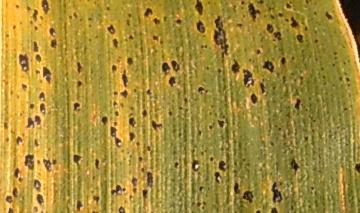tarspot: (212, 15, 230, 59), (109, 125, 124, 149), (241, 67, 256, 90), (246, 1, 261, 23), (17, 53, 30, 76), (270, 180, 283, 203), (41, 65, 53, 87), (23, 153, 35, 171), (261, 59, 275, 74), (71, 153, 84, 169), (120, 65, 129, 88), (230, 58, 241, 76), (41, 158, 54, 173), (149, 119, 163, 132), (242, 189, 254, 204), (289, 158, 300, 174), (195, 19, 206, 35), (146, 170, 155, 189), (190, 158, 202, 172), (170, 58, 181, 73), (110, 184, 122, 197), (40, 1, 51, 15), (160, 61, 171, 75), (35, 192, 45, 206), (167, 74, 177, 88), (290, 15, 299, 30), (272, 31, 283, 43), (197, 85, 209, 96), (265, 22, 275, 35), (213, 171, 223, 184), (217, 160, 226, 174), (258, 81, 267, 95), (324, 10, 334, 22), (194, 1, 202, 16), (32, 179, 42, 191), (75, 198, 83, 213), (127, 117, 137, 129), (232, 180, 240, 195), (249, 92, 258, 105), (33, 114, 42, 127), (25, 116, 34, 129), (111, 37, 120, 50), (130, 174, 139, 187), (294, 97, 302, 111), (76, 60, 84, 74), (11, 185, 19, 199), (143, 7, 153, 18), (140, 188, 149, 200), (49, 38, 57, 51), (31, 8, 39, 21), (125, 56, 135, 66), (295, 33, 304, 44), (106, 24, 115, 35), (100, 115, 109, 126), (119, 88, 128, 99), (91, 194, 100, 205), (32, 39, 39, 53), (48, 27, 56, 39), (34, 53, 42, 65), (13, 167, 21, 179), (128, 130, 135, 143), (38, 102, 45, 115), (4, 194, 13, 204), (216, 119, 225, 129), (104, 4, 113, 14), (38, 91, 46, 102), (15, 136, 23, 147), (94, 158, 101, 170), (284, 2, 293, 11), (33, 66, 41, 76), (110, 63, 117, 74), (112, 98, 119, 109), (354, 161, 360, 173), (174, 18, 183, 26), (152, 17, 160, 26), (75, 79, 83, 88), (255, 48, 263, 57), (268, 12, 276, 21), (282, 15, 290, 24), (151, 34, 159, 43), (127, 33, 135, 42), (235, 21, 243, 30), (144, 88, 153, 96), (124, 18, 132, 27), (131, 186, 139, 195), (73, 101, 80, 111), (141, 108, 148, 118), (269, 206, 279, 213), (126, 111, 136, 118), (33, 137, 39, 148), (298, 74, 304, 85), (67, 14, 75, 22), (279, 56, 286, 65), (28, 102, 35, 111), (2, 121, 9, 130), (268, 139, 275, 148), (302, 134, 309, 143), (139, 165, 146, 174), (118, 205, 125, 213), (137, 155, 144, 163), (145, 144, 152, 152), (35, 158, 42, 166), (17, 175, 24, 183), (277, 10, 284, 18), (25, 4, 32, 12), (72, 11, 79, 19), (172, 161, 179, 169), (216, 67, 223, 75), (21, 82, 27, 91), (196, 128, 202, 137), (183, 95, 188, 105), (281, 75, 286, 85), (7, 206, 14, 213), (112, 90, 119, 97), (113, 110, 120, 117), (10, 23, 17, 30), (131, 87, 138, 94), (86, 22, 93, 29), (135, 140, 141, 148), (33, 24, 39, 32), (198, 185, 204, 193), (200, 203, 206, 211), (288, 203, 294, 211), (121, 186, 127, 194), (127, 105, 135, 111), (303, 24, 308, 33), (4, 136, 10, 143), (28, 19, 34, 26), (4, 32, 10, 39), (276, 125, 282, 132), (46, 146, 53, 152), (86, 16, 93, 22), (344, 77, 351, 83), (342, 106, 349, 112), (271, 85, 278, 91), (8, 88, 14, 95), (14, 94, 21, 100), (52, 158, 57, 166), (162, 15, 167, 23), (14, 3, 20, 9), (126, 12, 132, 18), (207, 124, 213, 130), (309, 185, 315, 191), (312, 10, 318, 16), (313, 38, 319, 44), (209, 156, 214, 163), (167, 109, 172, 116), (199, 43, 204, 50), (205, 64, 210, 71), (190, 200, 195, 207), (290, 54, 295, 61), (201, 200, 207, 205), (331, 62, 336, 68), (254, 209, 261, 213), (204, 42, 208, 49), (196, 201, 200, 208), (305, 1, 312, 5), (90, 210, 99, 213), (87, 37, 92, 42), (258, 1, 264, 5), (240, 1, 244, 5)
